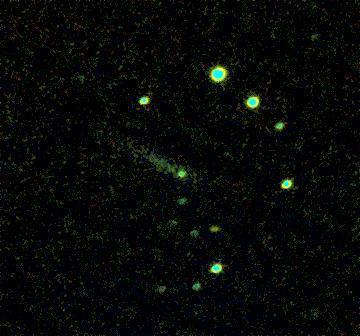star: (199, 212, 229, 242)
